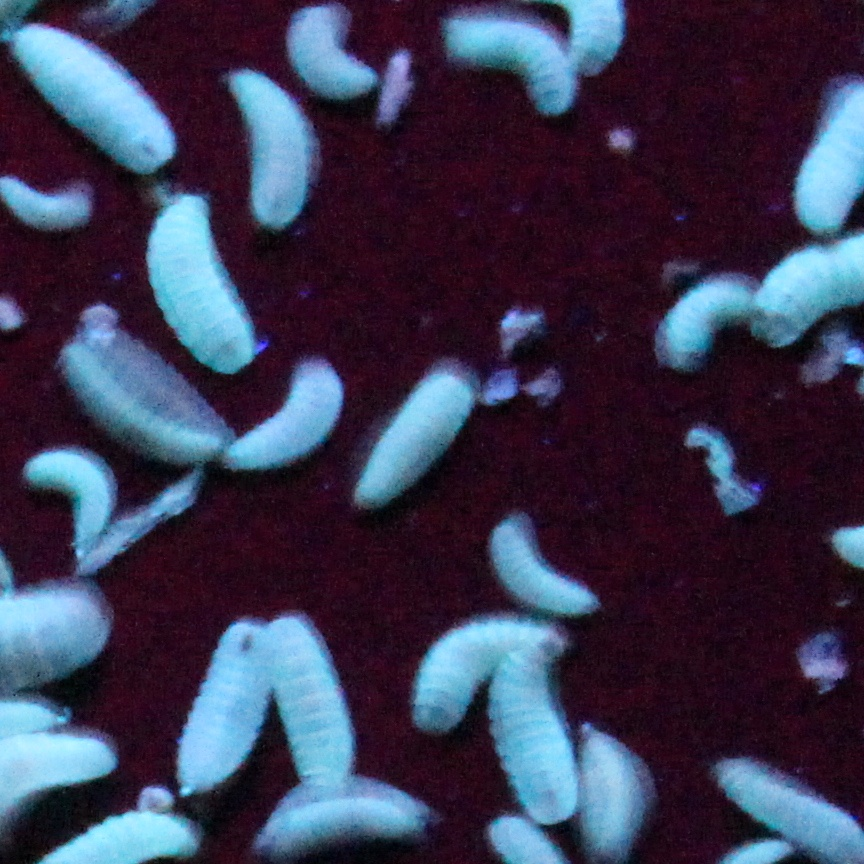larve: (15, 27, 173, 172), (146, 199, 249, 379), (171, 621, 272, 793), (72, 341, 212, 463), (361, 371, 468, 502), (276, 614, 350, 781), (227, 72, 307, 225), (262, 787, 423, 863), (443, 19, 571, 113), (232, 366, 343, 471), (494, 524, 597, 616), (511, 654, 559, 816), (665, 272, 744, 370), (31, 450, 112, 545), (416, 619, 489, 723), (291, 11, 372, 95)
